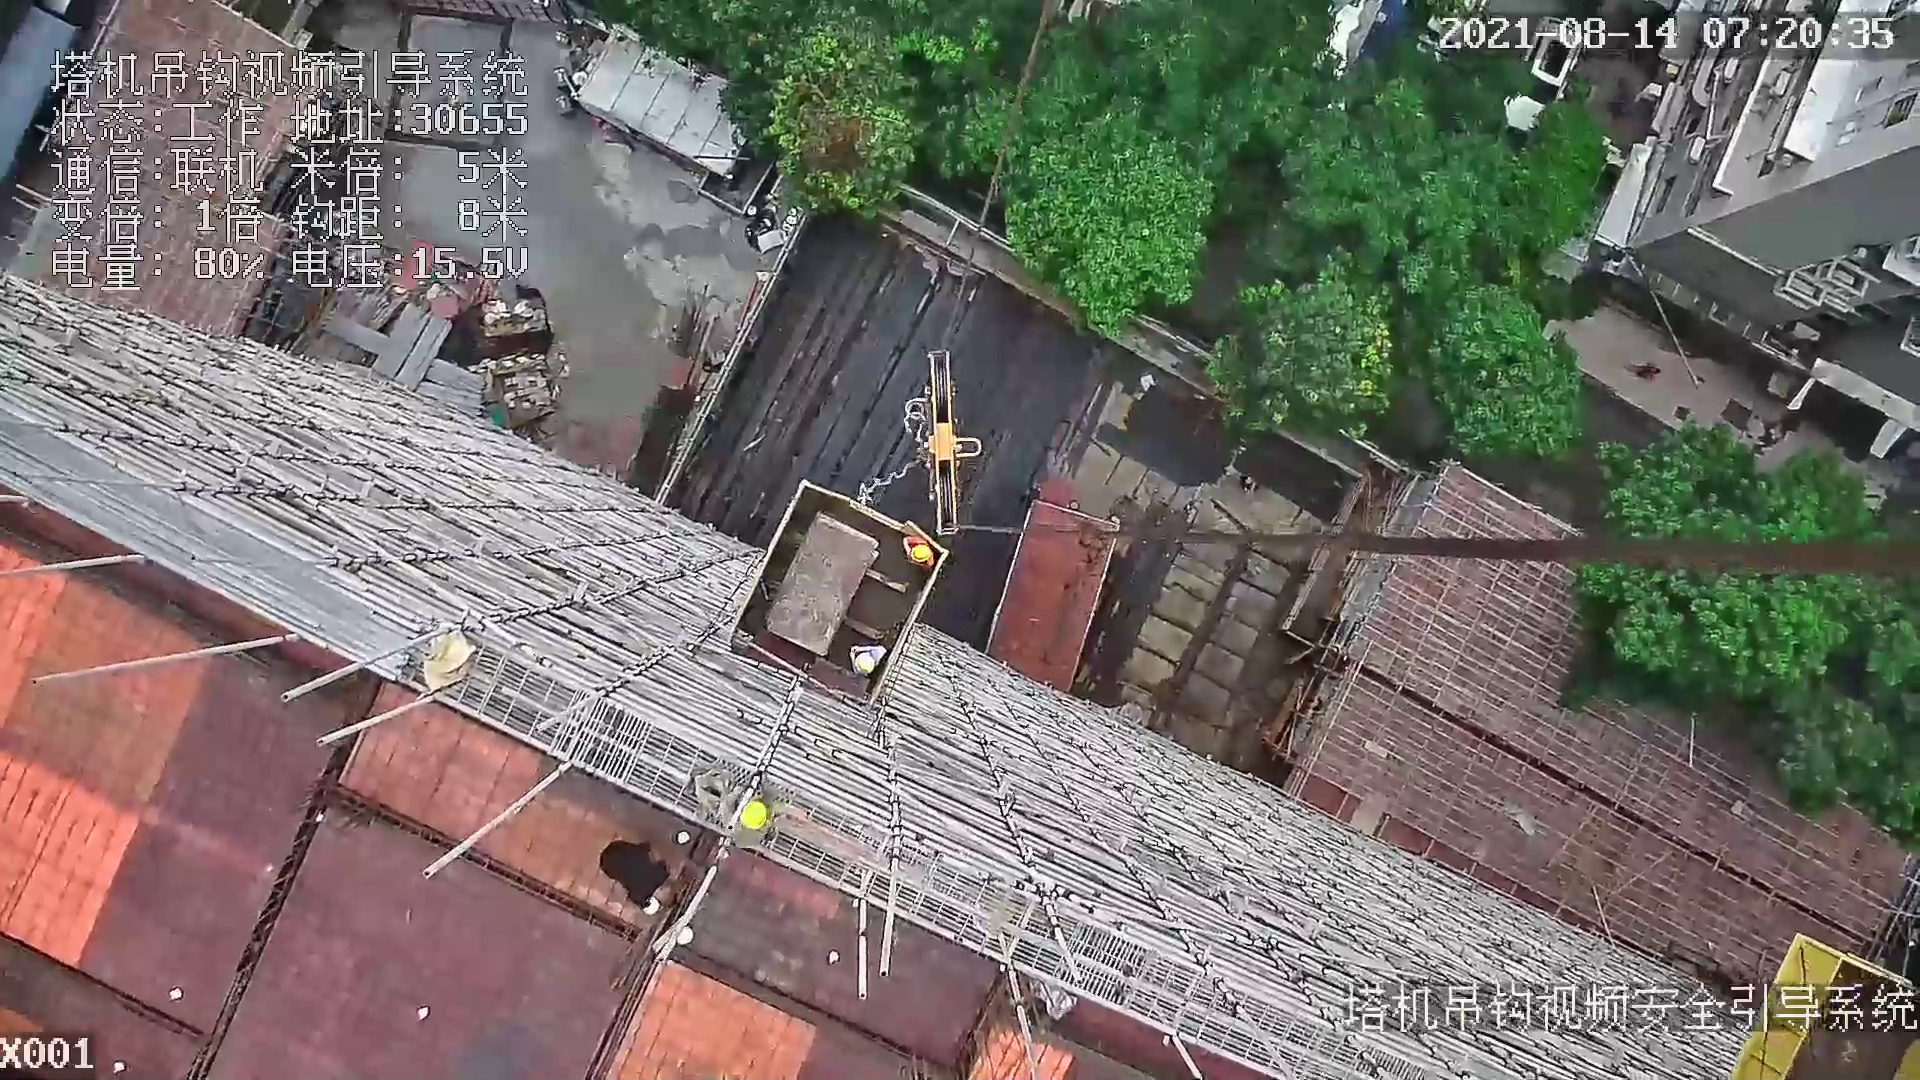helmet: (740, 800, 769, 831), (853, 653, 875, 676), (914, 543, 935, 565)
person: (731, 792, 776, 855), (840, 637, 888, 677), (899, 531, 938, 572)
